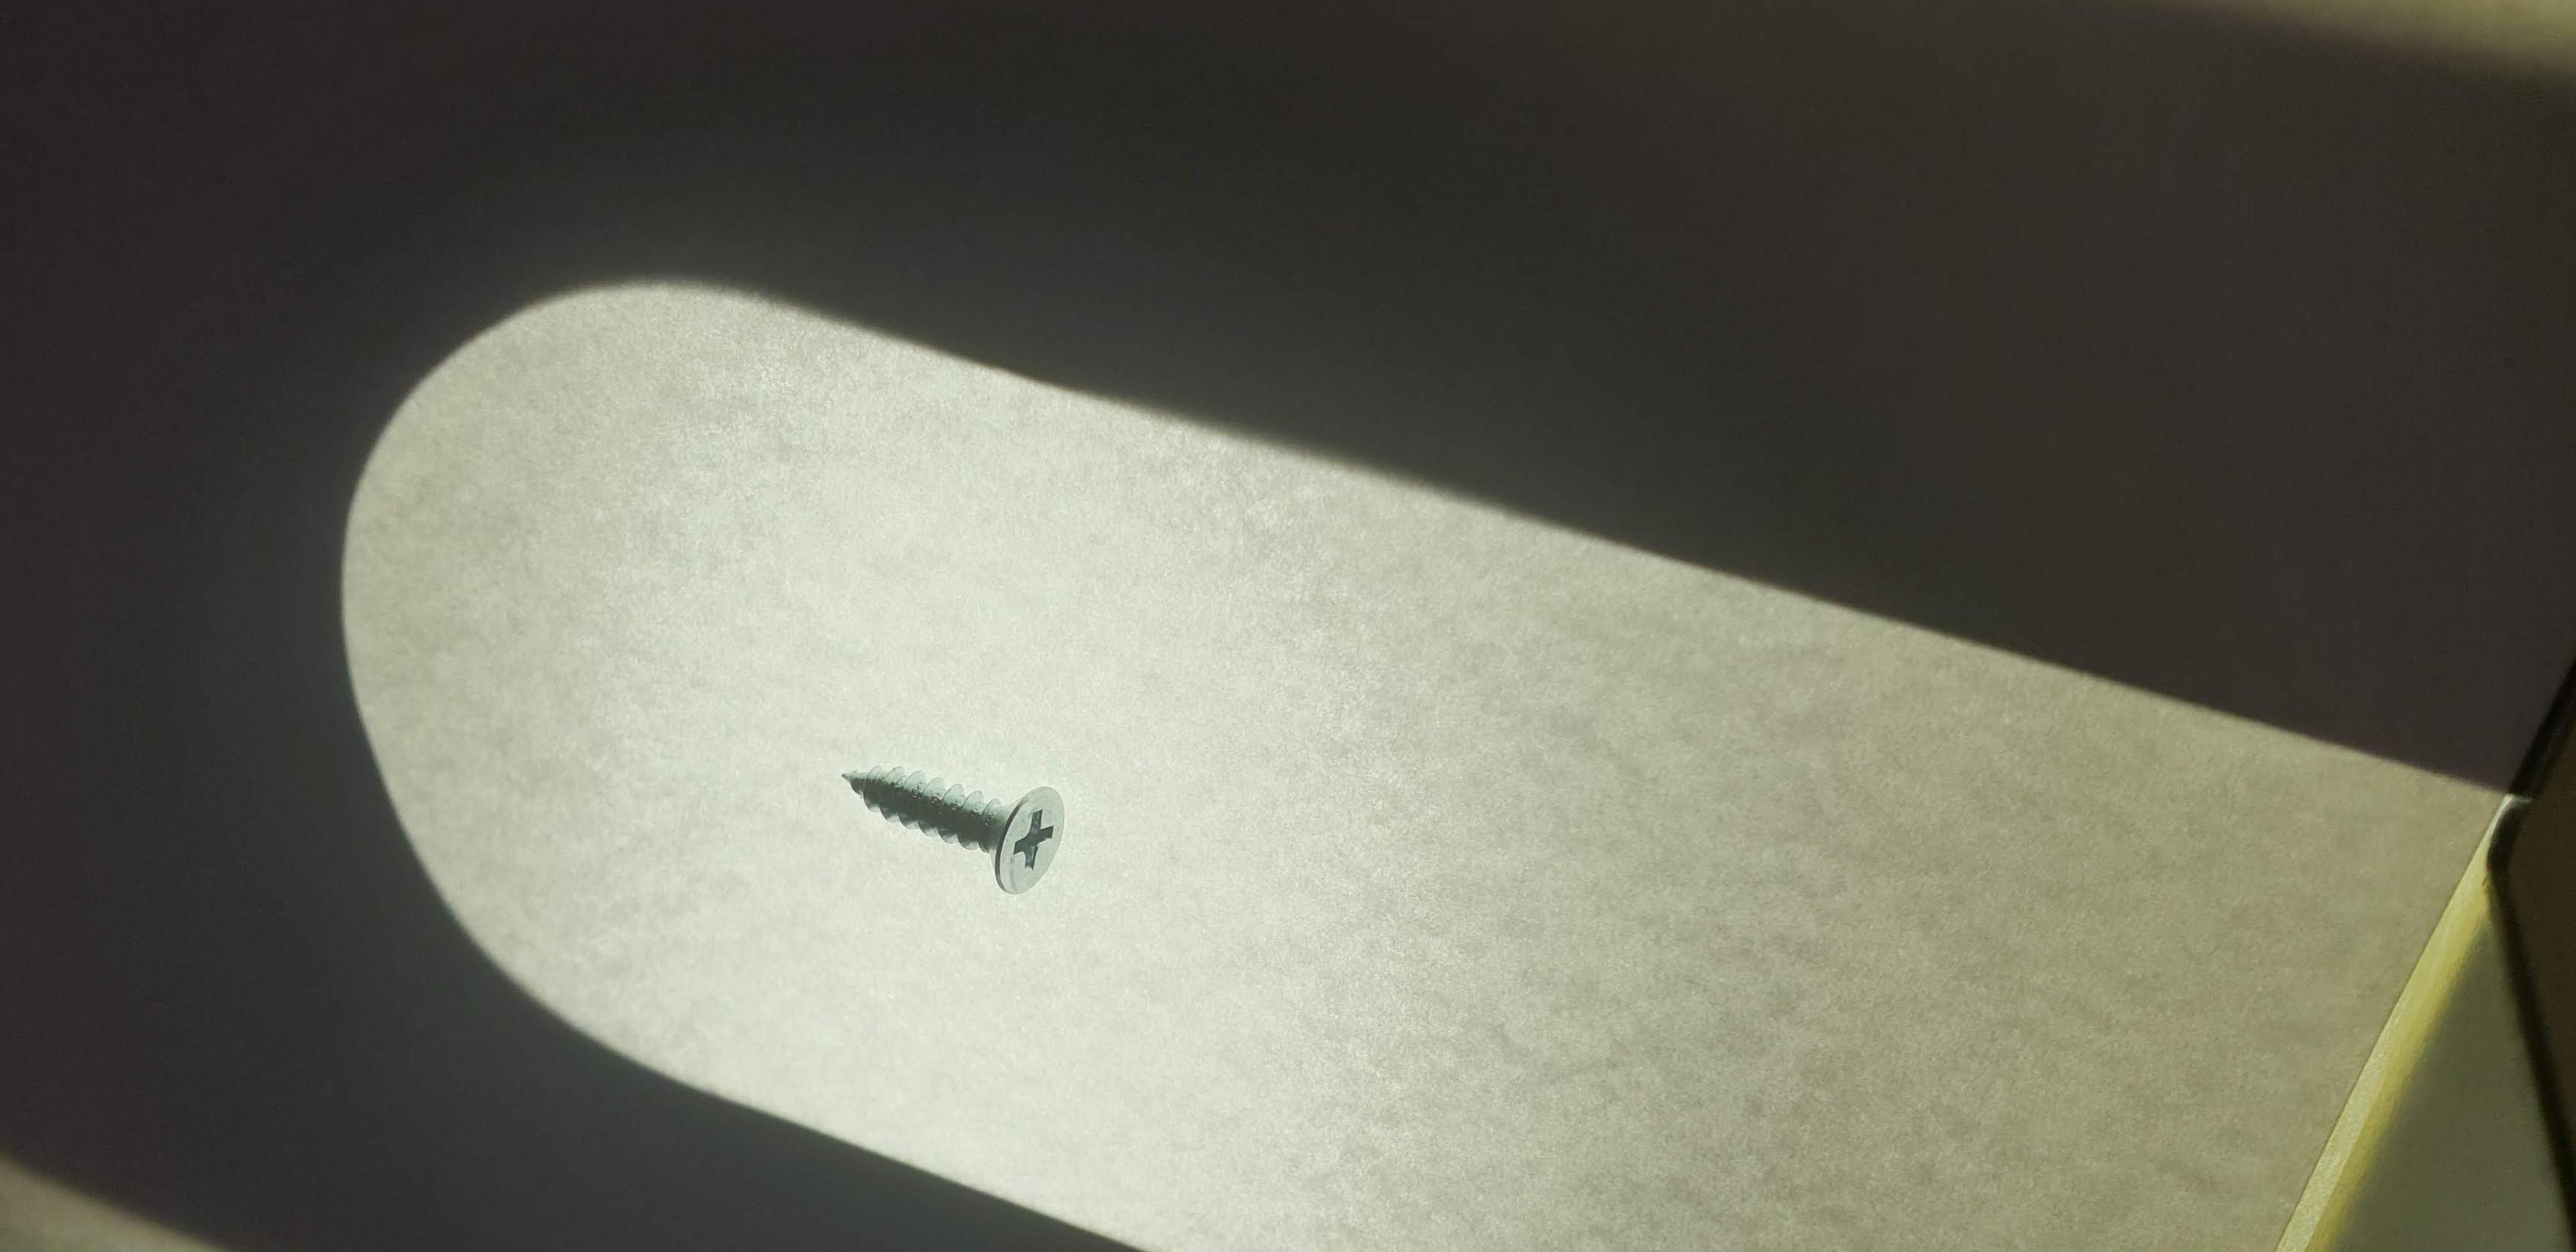S003: (816, 721, 1097, 927)
